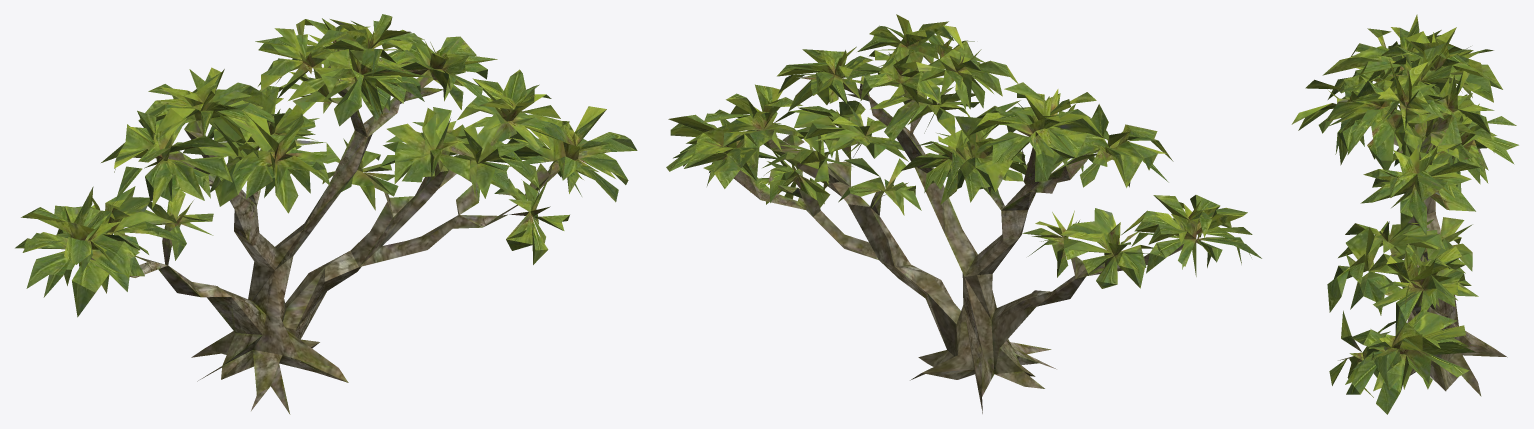
The model's file is ea_valley_shrub.glb.
3 renders of one model, left to right at view 1: azimuth 30°, elevation 25°; view 2: azimuth 150°, elevation 25°; view 3: azimuth 270°, elevation 25°, orthographic. The views are drawn at different scales.
Visible parts, largest first — view 1: output_unwrapped; view 2: output_unwrapped; view 3: output_unwrapped.
Boxes of the visible parts, x1=… form: output_unwrapped: x1=15, y1=14, x2=637, y2=414; output_unwrapped: x1=666, y1=14, x2=1261, y2=413; output_unwrapped: x1=1291, y1=14, x2=1518, y2=414.
Bounding box in the file's own units: 1.89 × 1.02 × 0.6065.
1 material, 1 textured.
